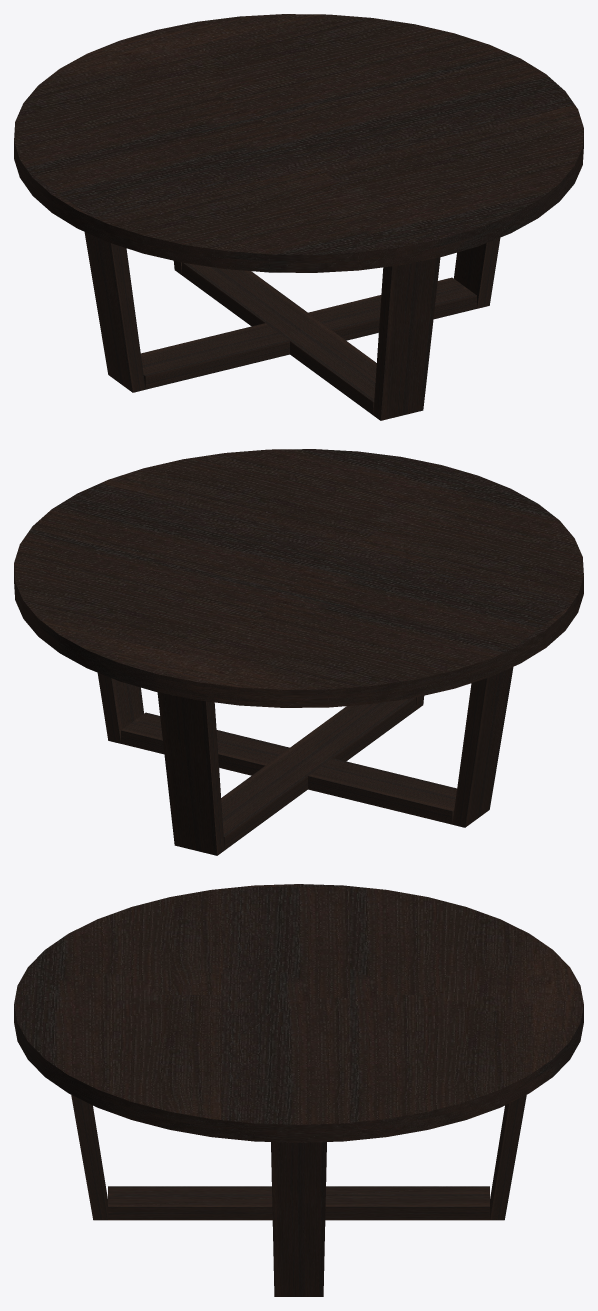
File: Coffee table 2.FBX
The picture shows the model from 3 angles, top to bottom: view 1: azimuth 30°, elevation 25°; view 2: azimuth 150°, elevation 25°; view 3: azimuth 270°, elevation 25°; orthographic projection.
Parts seen in each view (by area): view 1: coffee table 2; view 2: coffee table 2; view 3: coffee table 2.
Boxes of the visible parts, x1,y1,x2,y2 form: coffee table 2: (14,14,583,420); coffee table 2: (14,449,583,855); coffee table 2: (14,884,583,1296).
Size of the model in its own units: 100 by 39.8 by 100.
Materials: 1 (1 with a texture image).
